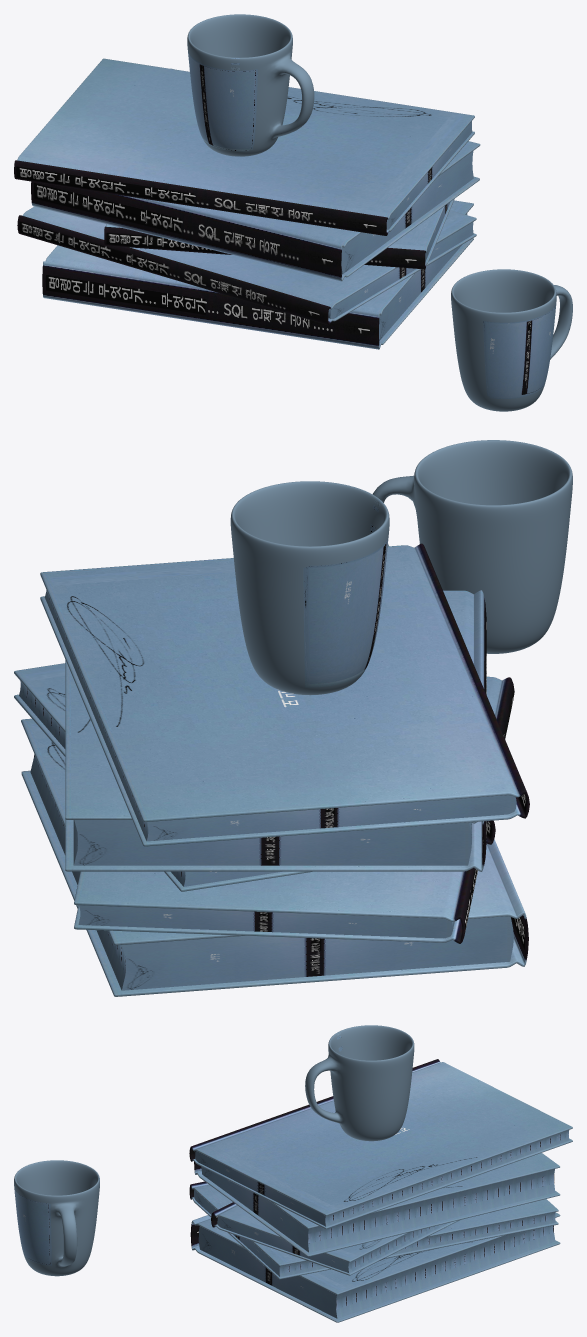
Rendered from book.gltf.
3 views of the same model, one above another, from view 1: azimuth 30°, elevation 25°; view 2: azimuth 150°, elevation 25°; view 3: azimuth 270°, elevation 25° (orthographic). The views are drawn at different scales.
Visible parts, largest first — view 1: books_and_mugs; view 2: books_and_mugs; view 3: books_and_mugs.
Part boxes in pixels (box(x1,y1,x2,y2)): books_and_mugs: box(14, 14, 572, 411); books_and_mugs: box(14, 440, 572, 996); books_and_mugs: box(14, 1025, 572, 1322).
Bounding box in the file's own units: 17.84 × 10.27 × 26.56.
Materials: 1 (1 with a texture image).
